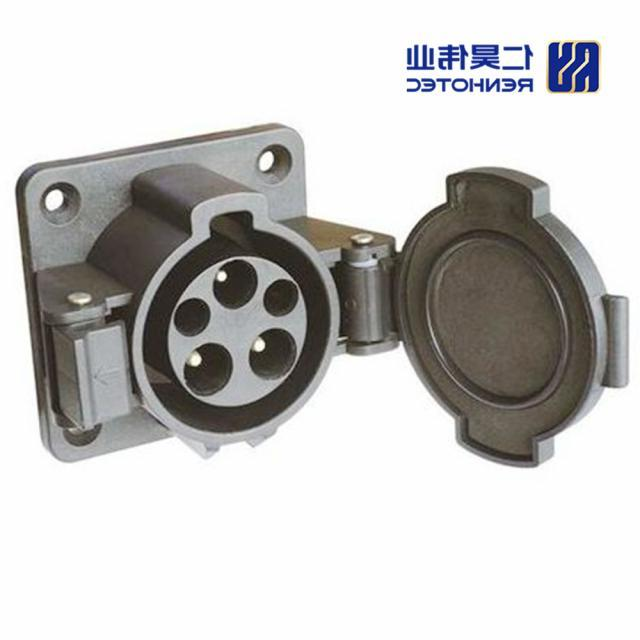Type 1: (139, 215, 351, 432)
